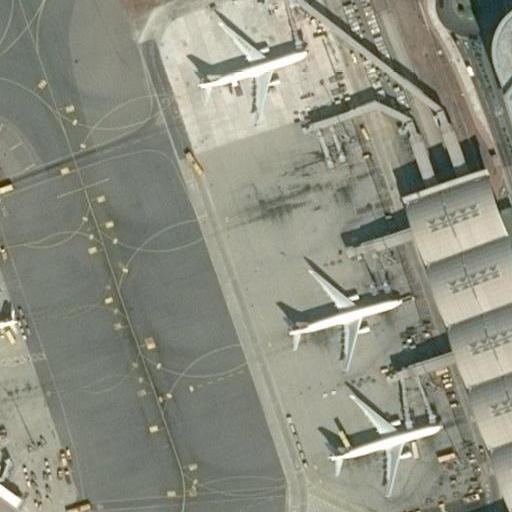Aircraft: (184, 0, 309, 118), (316, 379, 439, 494), (271, 247, 391, 360), (0, 287, 21, 352)
